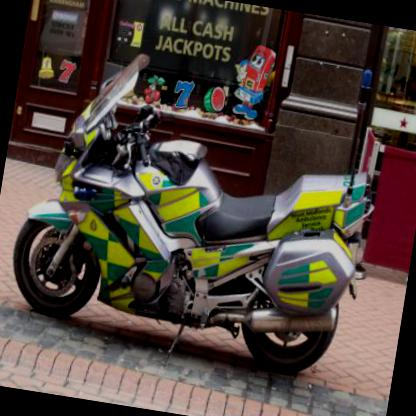motorcycle: (1, 40, 393, 385)
